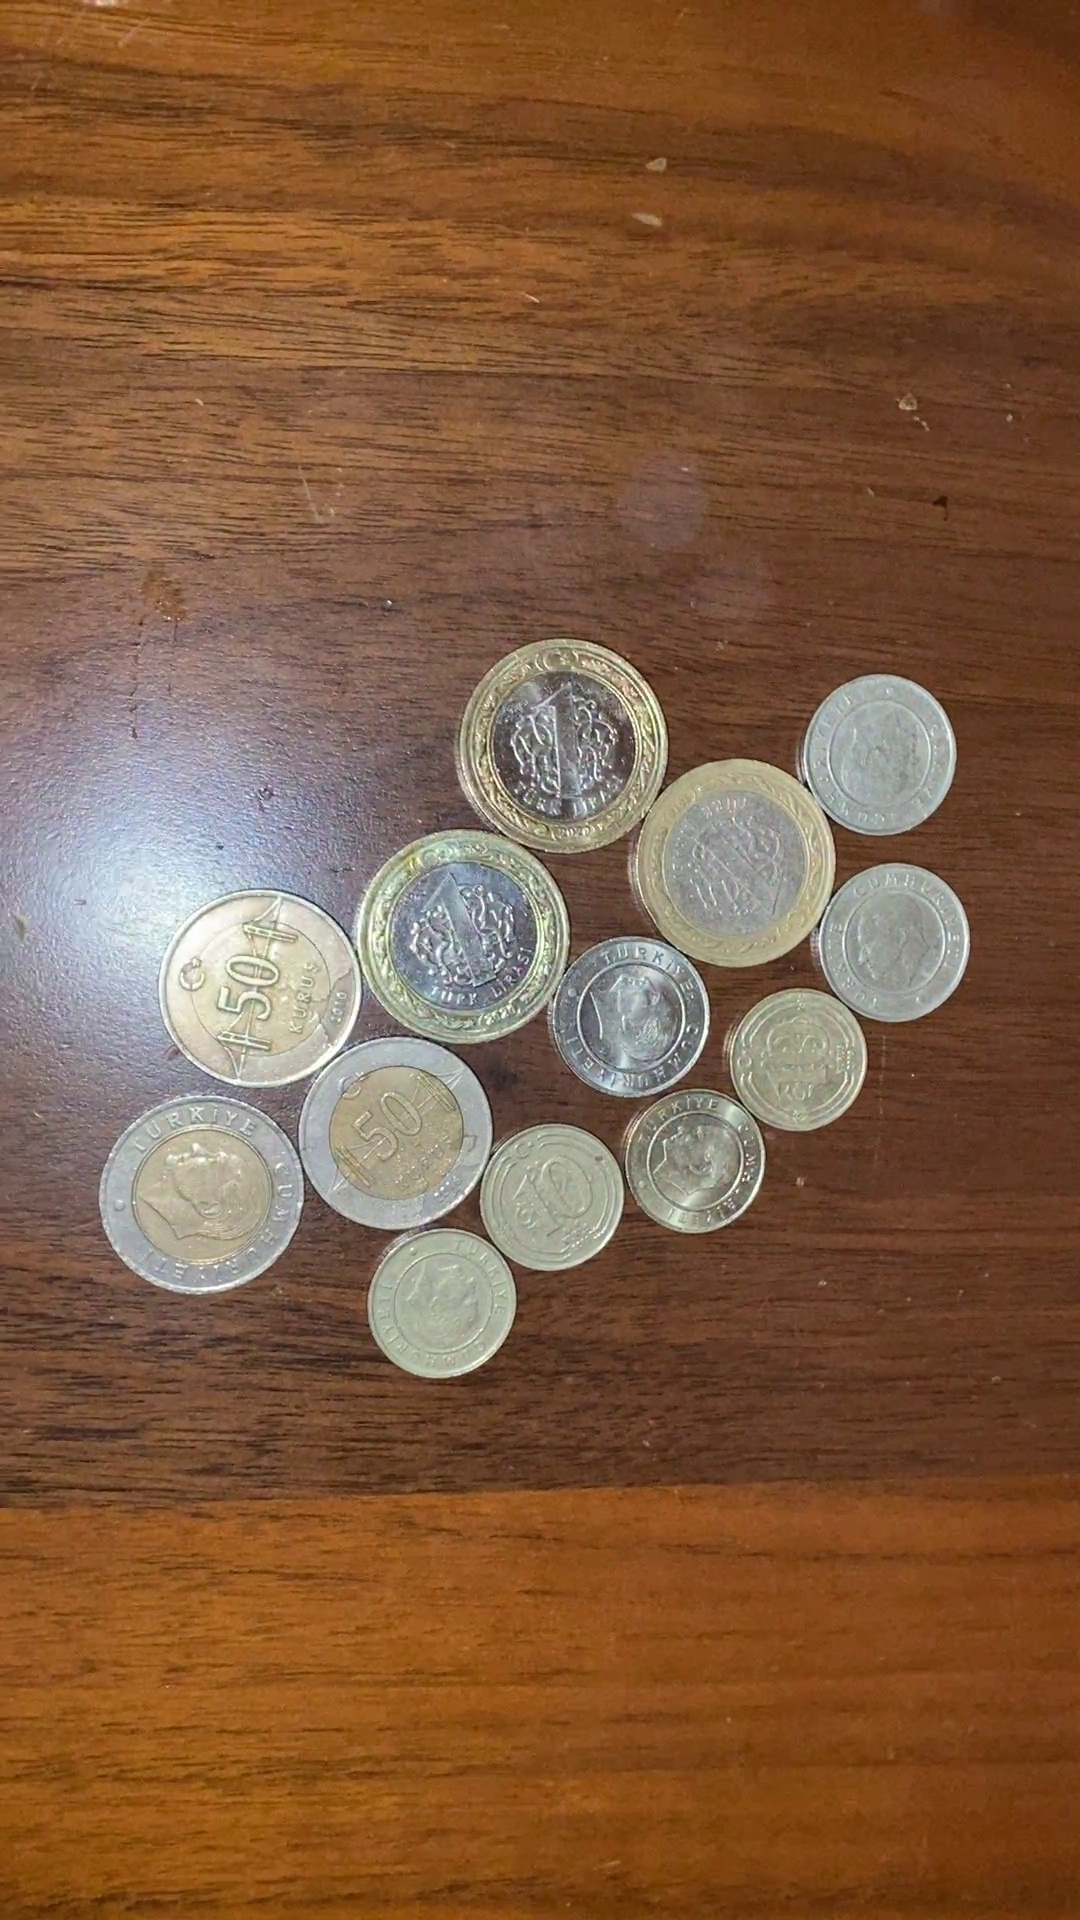1_tl: (353, 832, 574, 1044), (454, 638, 671, 852), (625, 756, 843, 967)
